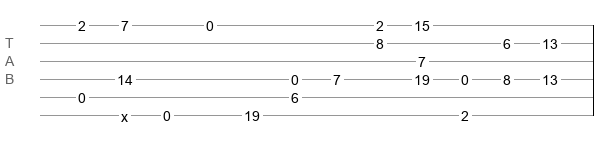0: (78, 90, 86, 100), (163, 108, 171, 118), (206, 18, 214, 28), (291, 72, 299, 82), (461, 72, 469, 82)
13: (542, 36, 558, 46), (542, 72, 558, 82)
14: (117, 72, 133, 82)
15: (414, 18, 430, 28)
19: (244, 108, 260, 118), (414, 72, 430, 82)
2: (78, 18, 86, 28), (376, 18, 384, 28), (461, 108, 469, 118)
6: (291, 90, 299, 100), (503, 36, 511, 46)
7: (121, 18, 129, 28), (333, 72, 341, 82), (418, 54, 426, 64)
8: (376, 36, 384, 46), (503, 72, 511, 82)
x: (121, 109, 128, 117)
